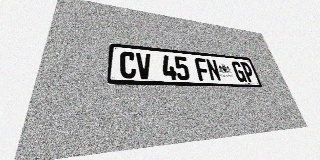4: (161, 55, 177, 80)
5: (174, 56, 191, 80)
C: (120, 51, 136, 79)
F: (194, 58, 211, 81)
G: (231, 61, 247, 82)
N: (205, 59, 222, 81)
P: (240, 62, 256, 82)
V: (136, 52, 152, 79)
